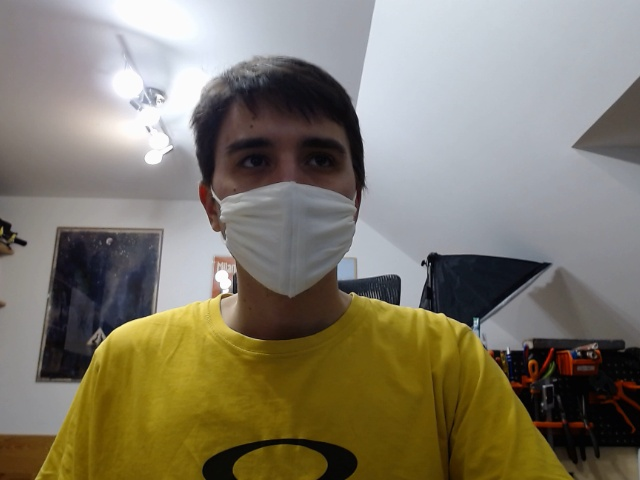CorrectMask: (188, 52, 369, 301)
